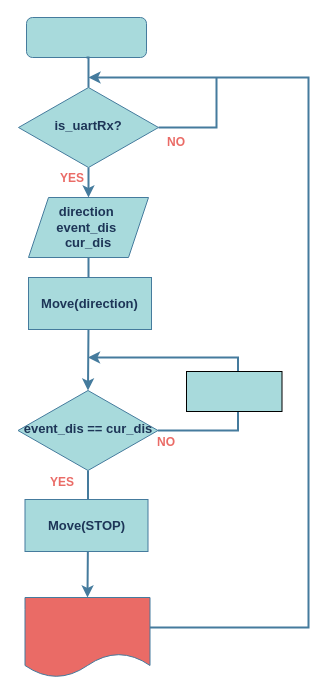
The diagram is 334 pixels wide and 695 high, and some of its shapes have lost their labels. The centre of each missing label's shape, as x and y in pixels:
"Thread Start" goes at (86,37).
"Transmit <False, Distance>" goes at (87,637).
"update cur_dis" goes at (234,391).
